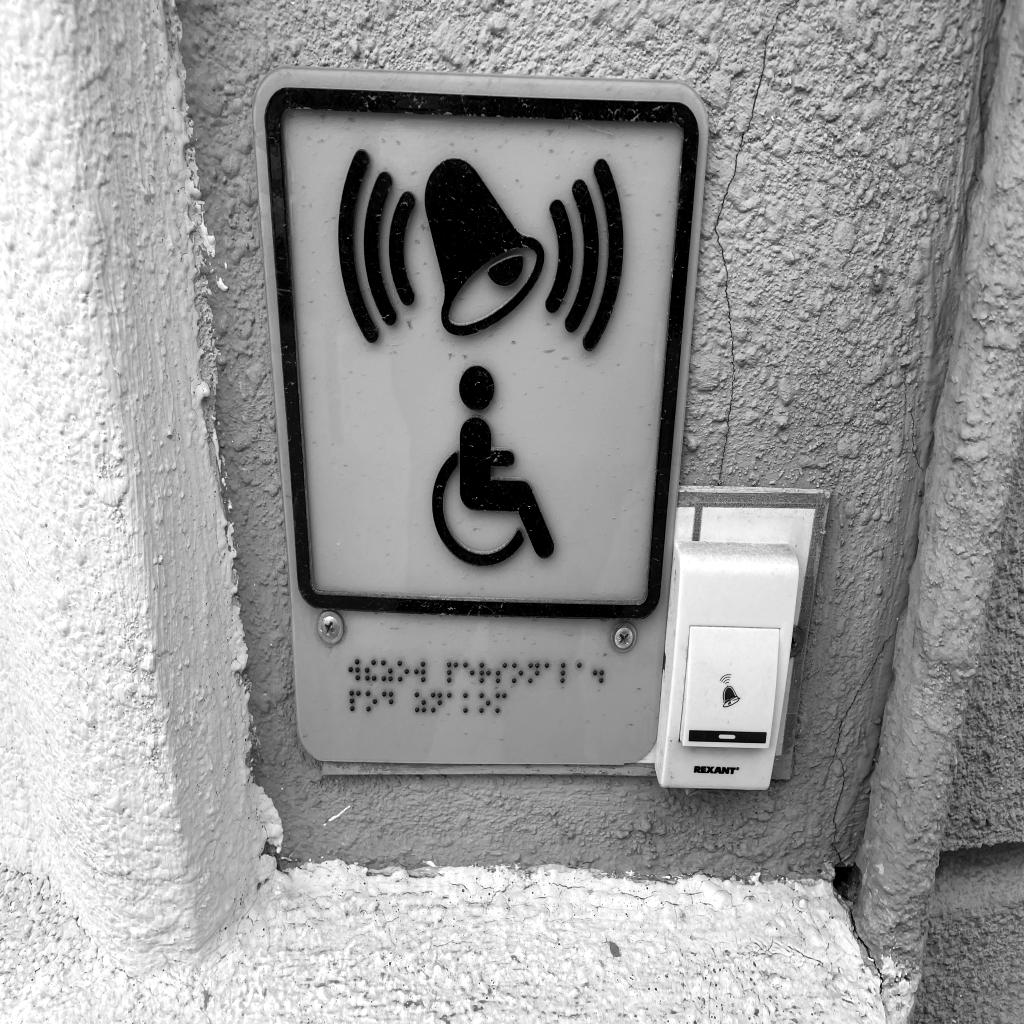_n: (528, 662, 540, 684), (430, 692, 442, 714)
a: (544, 661, 556, 685), (446, 692, 458, 712), (577, 662, 587, 683)
d: (382, 691, 394, 714)
e: (463, 662, 475, 686)
ii: (365, 659, 377, 681)
k: (463, 692, 475, 714)
l: (560, 662, 573, 684)
m: (494, 691, 507, 714)
o: (397, 660, 409, 682), (512, 662, 524, 684), (479, 692, 491, 714), (366, 691, 378, 712)
p: (349, 690, 361, 712), (447, 661, 458, 683)
r: (479, 662, 491, 684)
s: (495, 662, 508, 684)
tochka: (592, 662, 604, 685)
v: (414, 660, 426, 683), (348, 659, 360, 680)
z: (381, 659, 393, 682), (415, 692, 427, 714)
